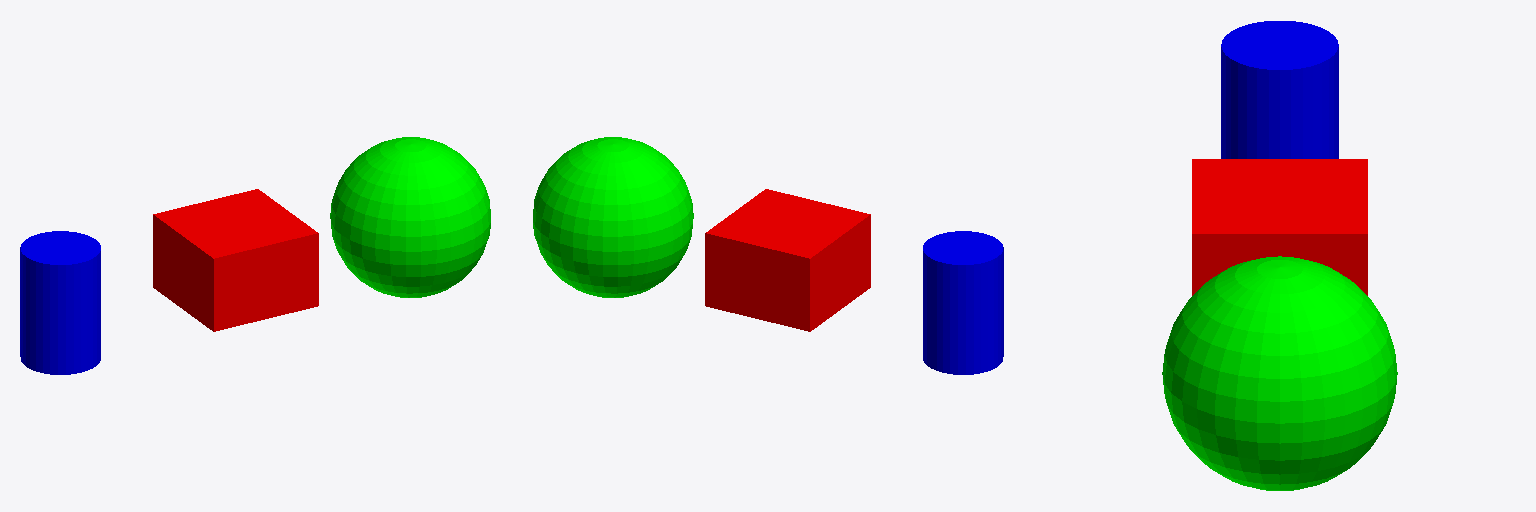
The robot description file, URDF, robot "test_robot":
<robot name="test_robot">
    <link name="base_link"/>

    <joint name="body1_link" type="fixed">
        <parent link="base_link"/>
        <child link="body1_link"/>
    </joint>

    <link name="body1_link">
        <visual>
            <geometry>
                <box size="0.3 0.3 0.2"/>
            </geometry>
            <origin xyz="0 0 0" rpy="0 0 0"/>
            <material name="red">
                <color rgba="1.0 0.0 0.0 1.0"/>
            </material>
        </visual>
    </link>

    <joint name="body2_joint" type="fixed">
        <parent link="base_link"/>
        <child link="body2_link"/>
        <origin xyz="0.5 0 0" rpy="0 0 0"/>
    </joint>

    <link name="body2_link">
        <visual>
            <geometry>
                <sphere radius="0.2"/>
            </geometry>
            <origin xyz="0 0 0" rpy="0 0 0"/>
            <material name="green">
                <color rgba="0.0 1.0 0.0 1.0"/>
            </material>
        </visual>
    </link>

    <joint name="body3_joint" type="fixed">
        <parent link="base_link"/>
        <child  link="body3_link"/>
        <origin xyz="-0.5 0 0" rpy="0 0 0"/>
    </joint>

    <link name="body3_link">
        <visual>
            <geometry>
                <cylinder length="0.3" radius="0.1"/>
            </geometry>
            <origin xyz="0 0 0" rpy="0 0 0"/>
            <material name="blue">
                <color rgba="0.0 0.0 1.0 1.0"/>
            </material>
        </visual>
    </link>

</robot>

--- Render facts (derived) ---
3 views of the same robot in one strip: view 1: azimuth 30°, elevation 25°; view 2: azimuth 150°, elevation 25°; view 3: azimuth 270°, elevation 25° (orthographic).
Robot: test_robot — 4 links, 3 joints (3 fixed); root link base_link; default pose: every joint at zero.
Visible links, largest first — view 1: body2_link, body1_link, body3_link; view 2: body2_link, body1_link, body3_link; view 3: body2_link, body1_link, body3_link.
Link boxes in pixels (left/top/right/bottom): body2_link: left=330, top=137, right=490, bottom=297; body1_link: left=153, top=189, right=318, bottom=331; body3_link: left=20, top=231, right=100, bottom=374; body2_link: left=533, top=137, right=693, bottom=297; body1_link: left=705, top=189, right=870, bottom=331; body3_link: left=923, top=231, right=1003, bottom=374; body2_link: left=1162, top=256, right=1397, bottom=490; body1_link: left=1192, top=159, right=1367, bottom=295; body3_link: left=1221, top=21, right=1338, bottom=158.
Size in the robot's own frame: 1.3 by 0.4 by 0.4 metres.
Geometry: primitives only (box / cylinder / sphere), no mesh files.